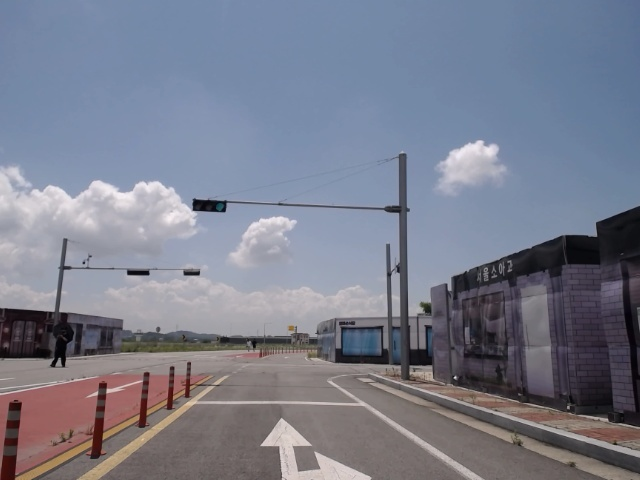green_3: (194, 199, 226, 212)
